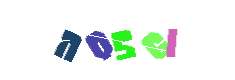5: (83, 0, 163, 80)
6: (105, 0, 185, 80)
I: (112, 0, 192, 80)
N: (43, 0, 123, 80)
Q: (77, 0, 157, 80)
